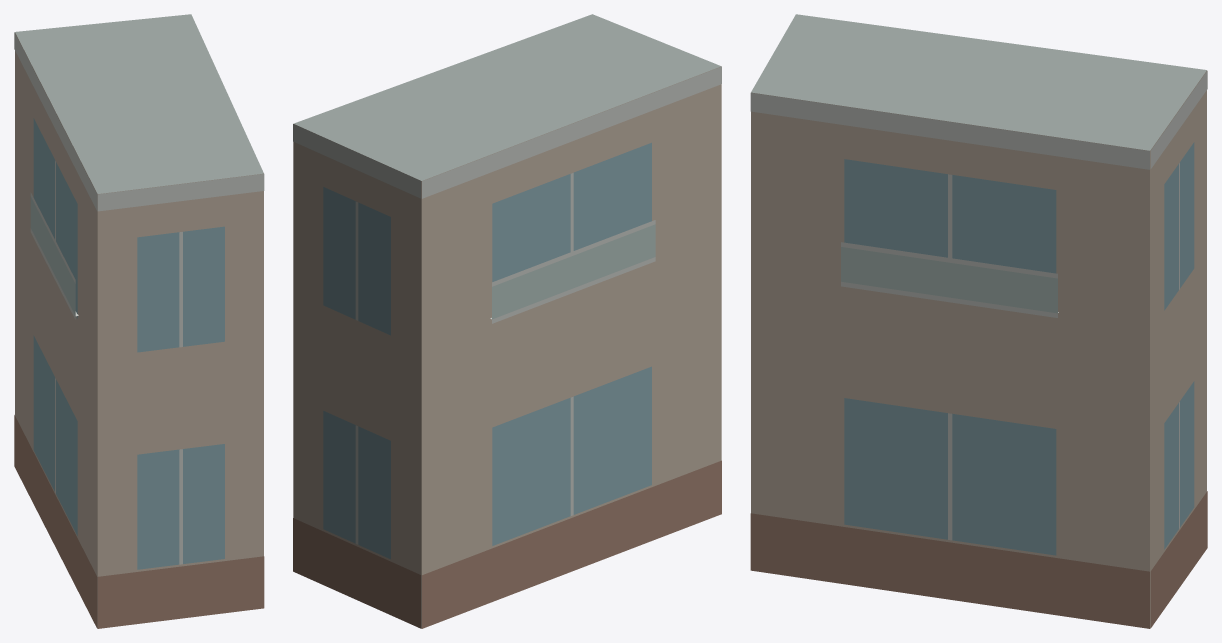
Rendered from survey-upis-32954135.glb.
3 views of the same model, side by side, from view 1: azimuth 30°, elevation 25°; view 2: azimuth 150°, elevation 25°; view 3: azimuth 270°, elevation 25° (orthographic). The views are drawn at different scales.
Visible parts, largest first — view 1: survey-upis-32954135.tmp; view 2: survey-upis-32954135.tmp; view 3: survey-upis-32954135.tmp.
Boxes of the visible parts, bbox=[...] form: survey-upis-32954135.tmp: bbox=[14, 14, 264, 628]; survey-upis-32954135.tmp: bbox=[293, 14, 721, 628]; survey-upis-32954135.tmp: bbox=[750, 14, 1207, 628].
Bounding box in the file's own units: 3.75 × 6.1 × 5.29.
